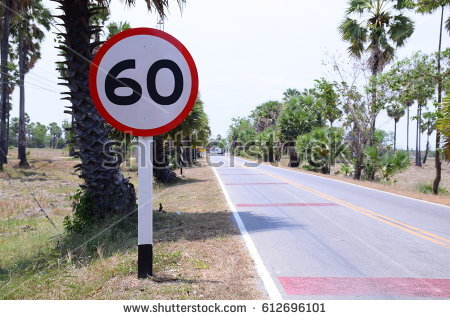Speed_limit_60km: (88, 26, 195, 138)
